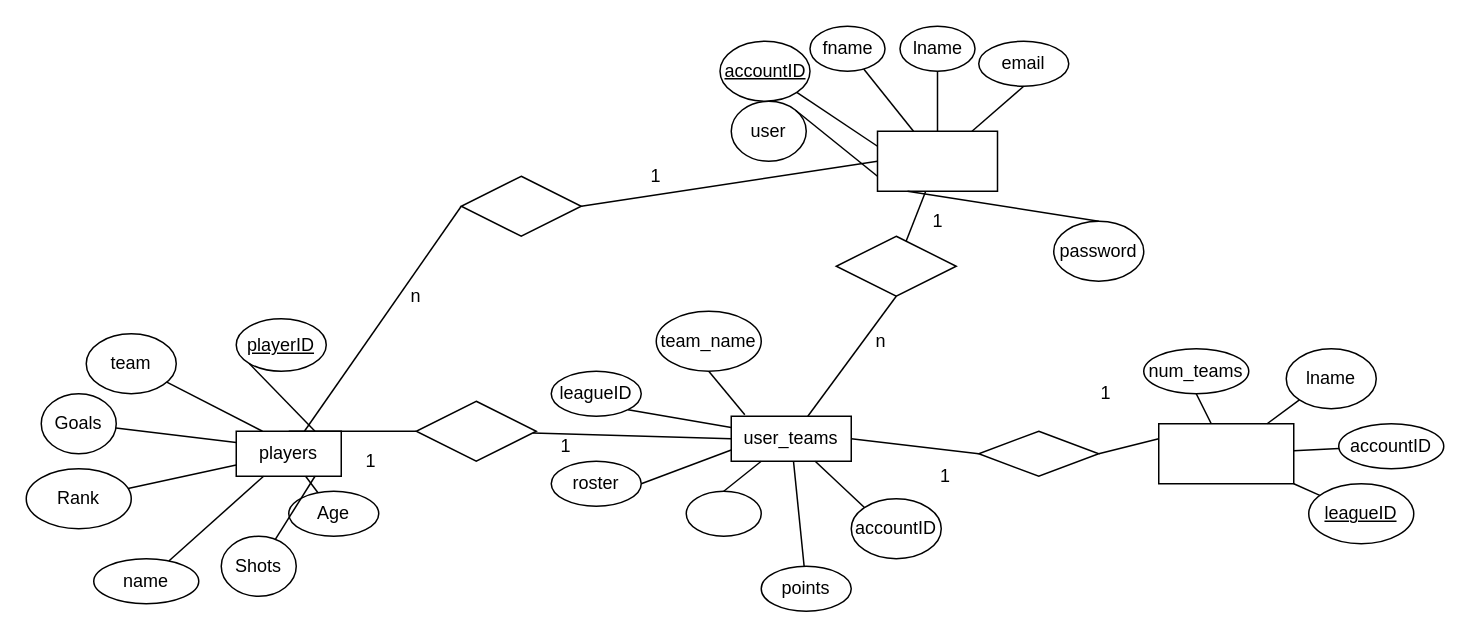
The diagram is 1470 pixels wide and 638 high, and some of its shapes have lost their labels. Each missing label, with the box of its shape:
accounts: (876, 130, 998, 191)
belongs to: (977, 430, 1099, 476)
contains: (415, 400, 536, 461)
manages: (835, 235, 956, 296)
searches: (460, 175, 581, 236)
teamID: (685, 490, 761, 536)
user_leagues: (1157, 422, 1294, 484)
